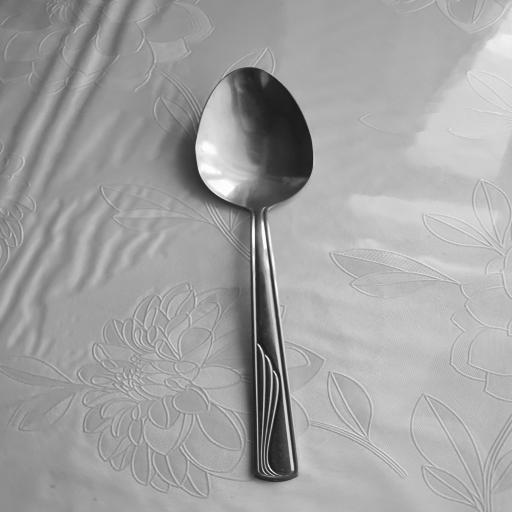spoon: (198, 67, 328, 482)
